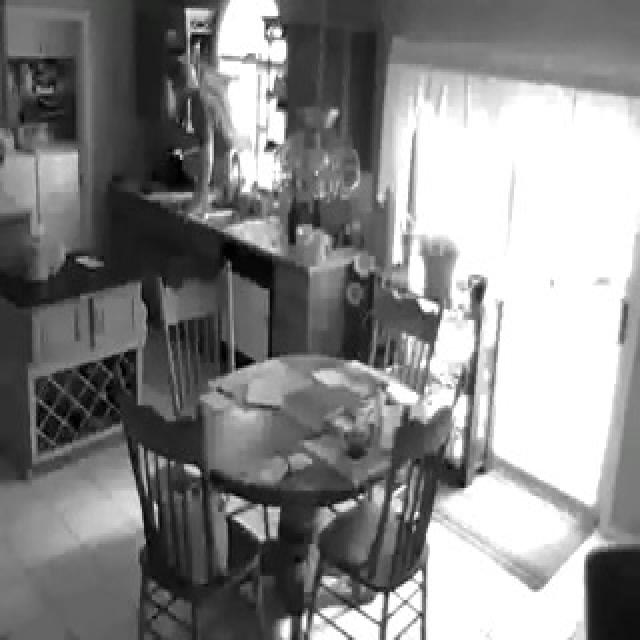thief: (141, 48, 254, 176)
